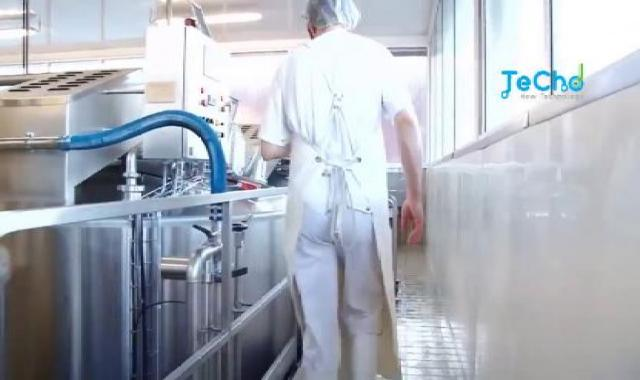hairnet: (292, 0, 372, 37)
